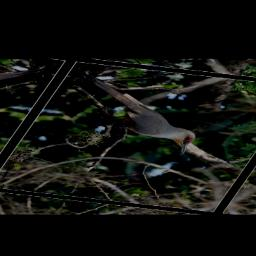Cuckoo: (33, 71, 233, 156)
